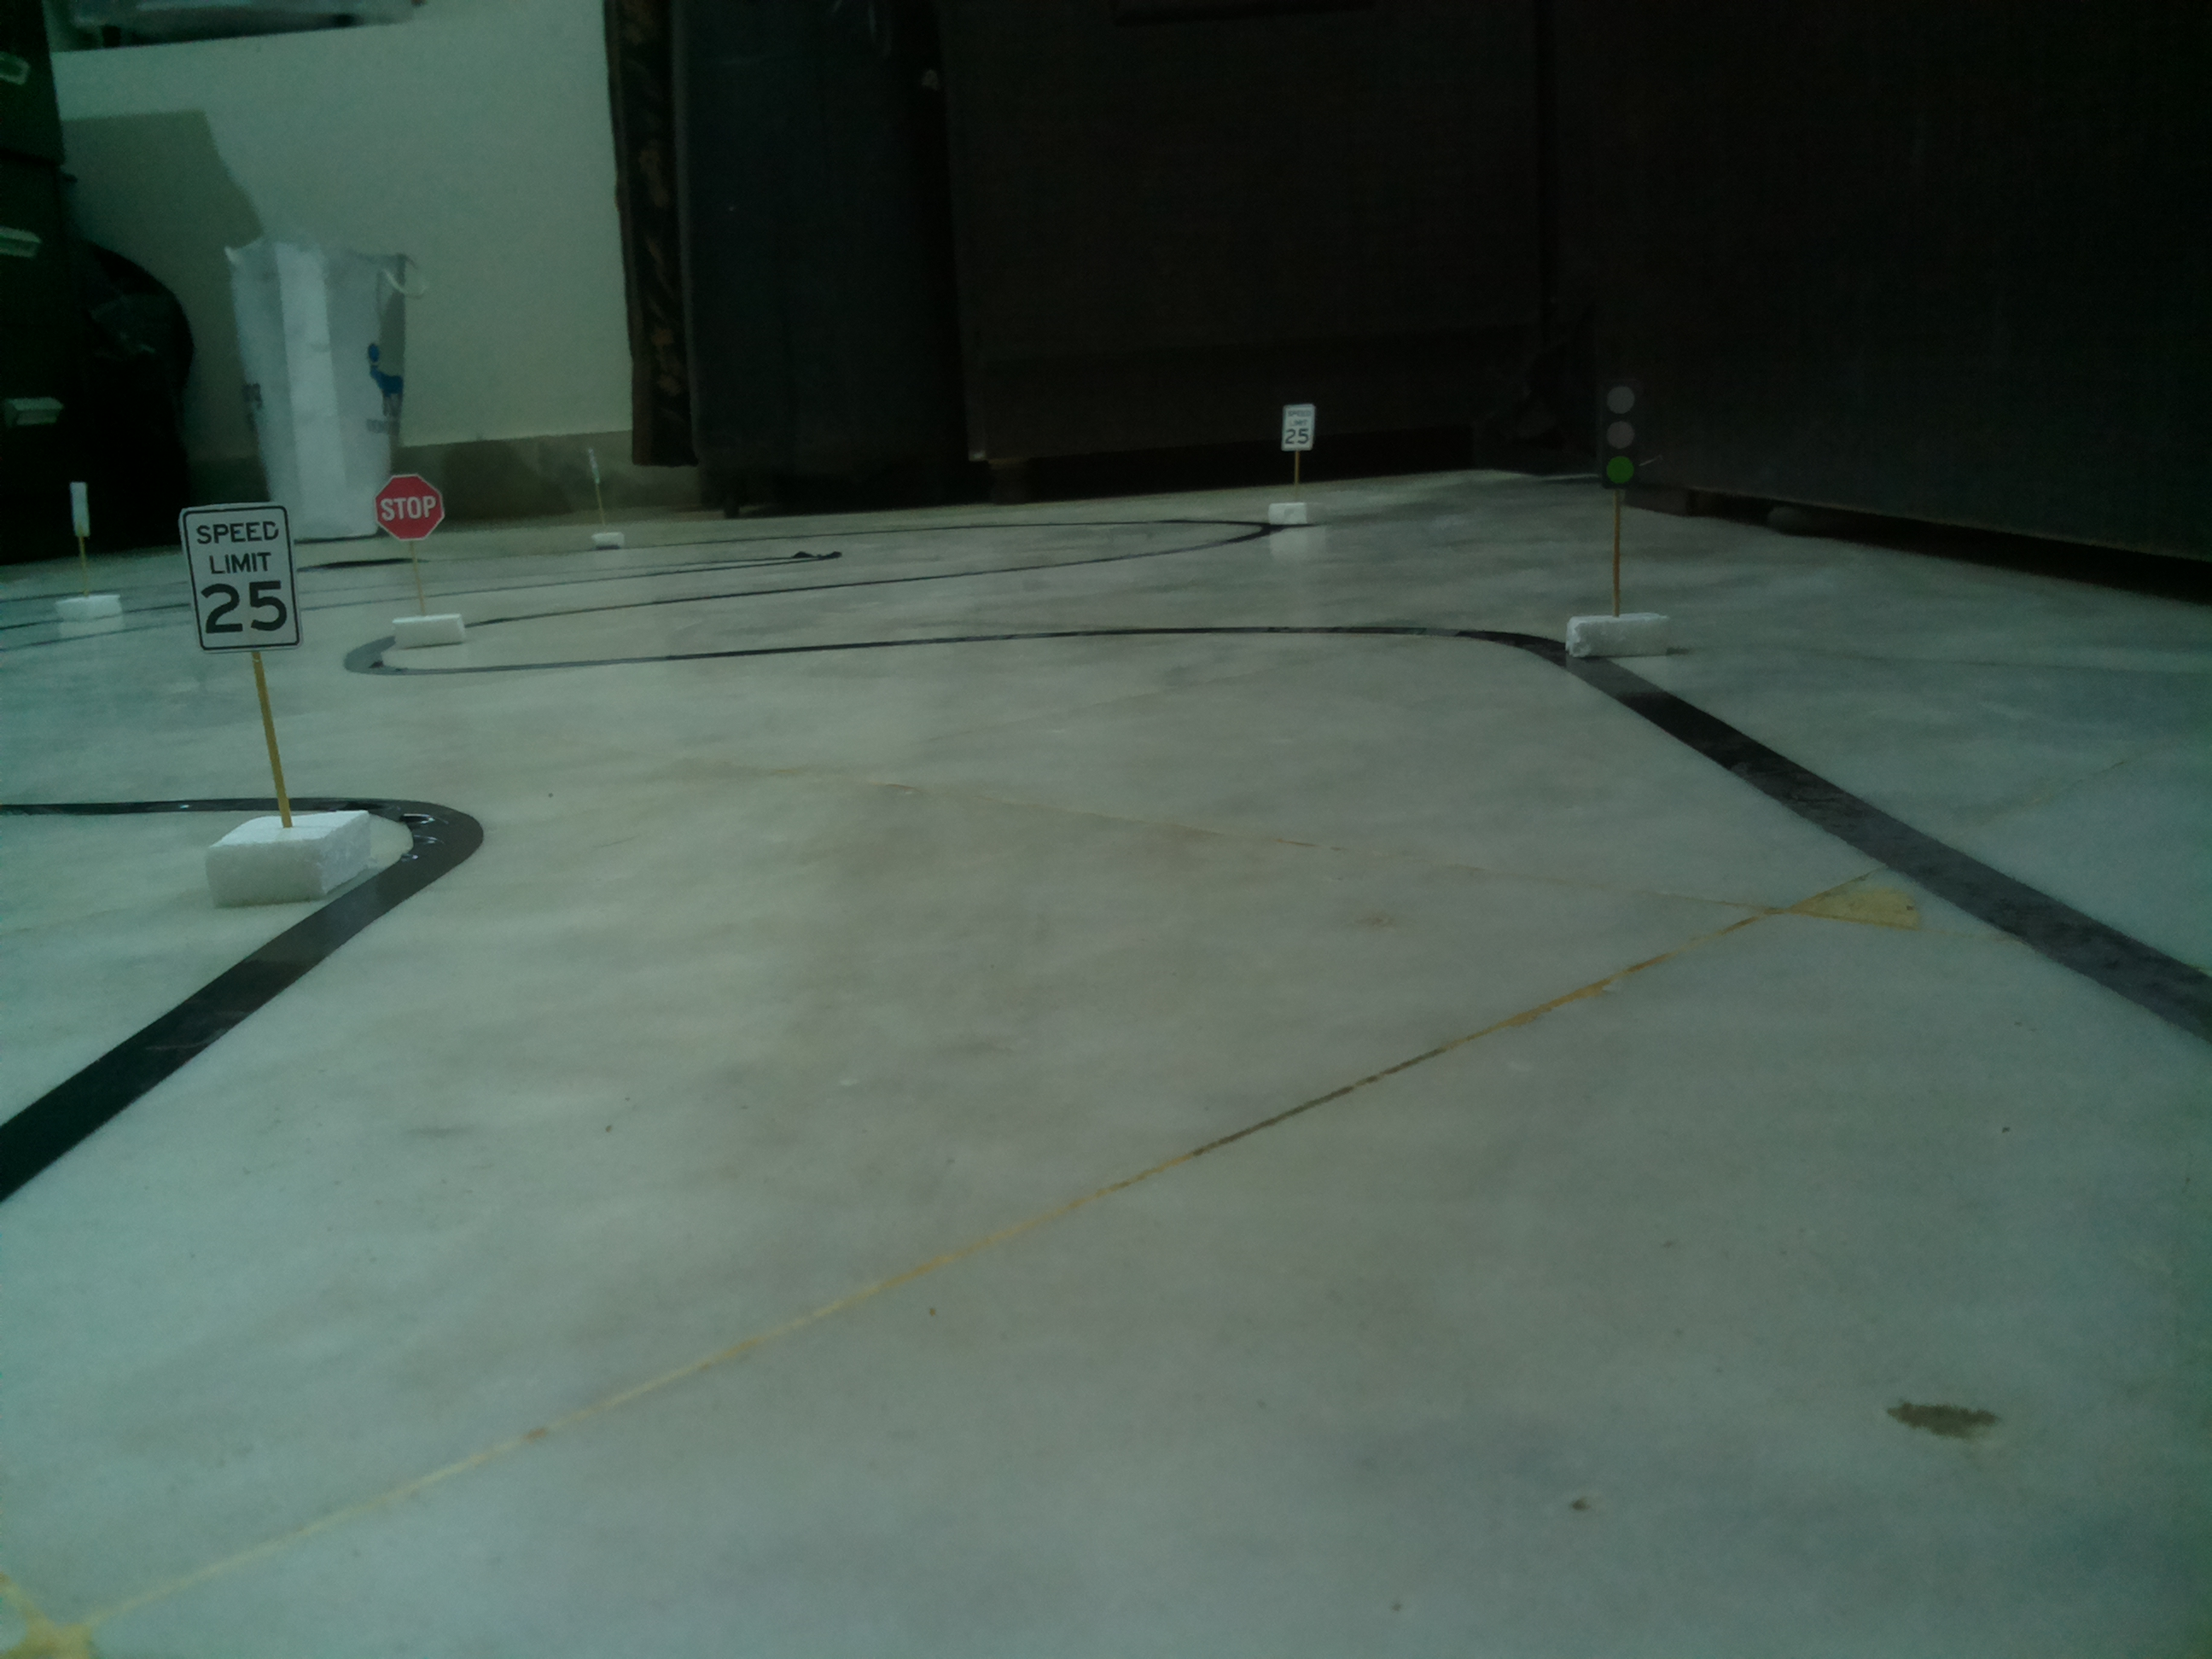Green traffic light: (1594, 373, 1648, 491)
Speed limit 25: (172, 504, 303, 653)
Stop sign: (369, 471, 449, 542)
